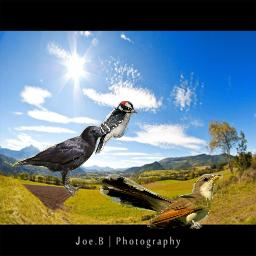Crow: (10, 125, 102, 198)
Cuckoo: (99, 174, 223, 229)
Woodpecker: (92, 101, 139, 155)
